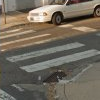crosswalk: (0, 28, 100, 72)
